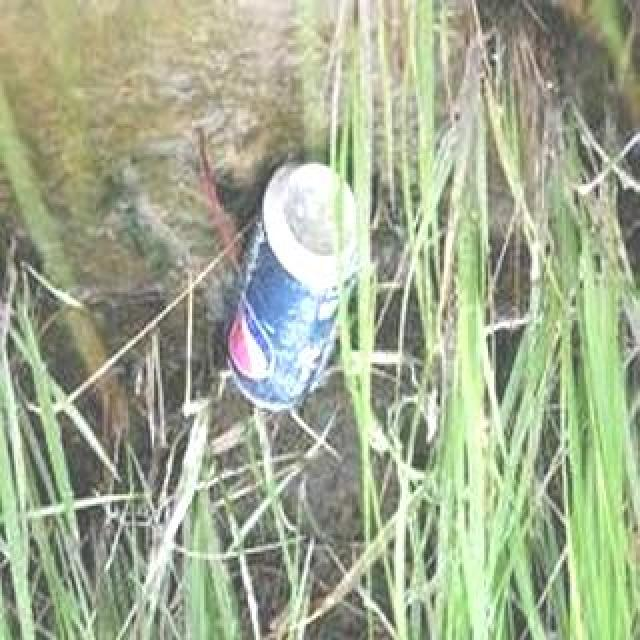Can: (218, 163, 374, 425)
